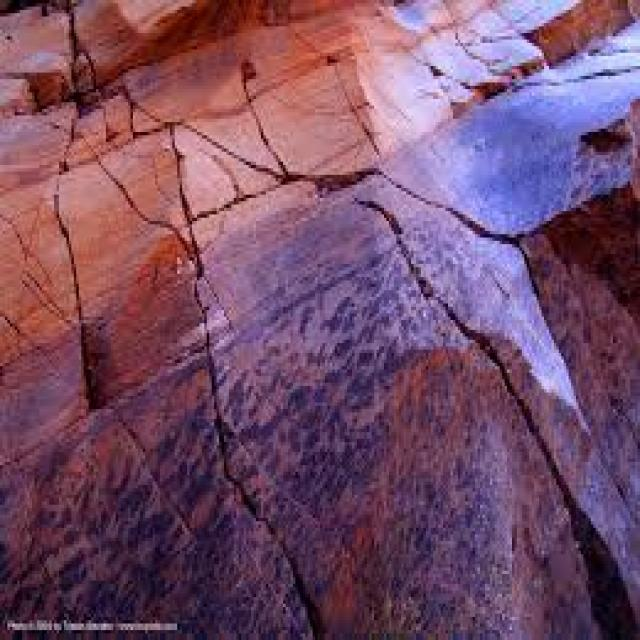Metamorphic: (2, 3, 628, 604)
